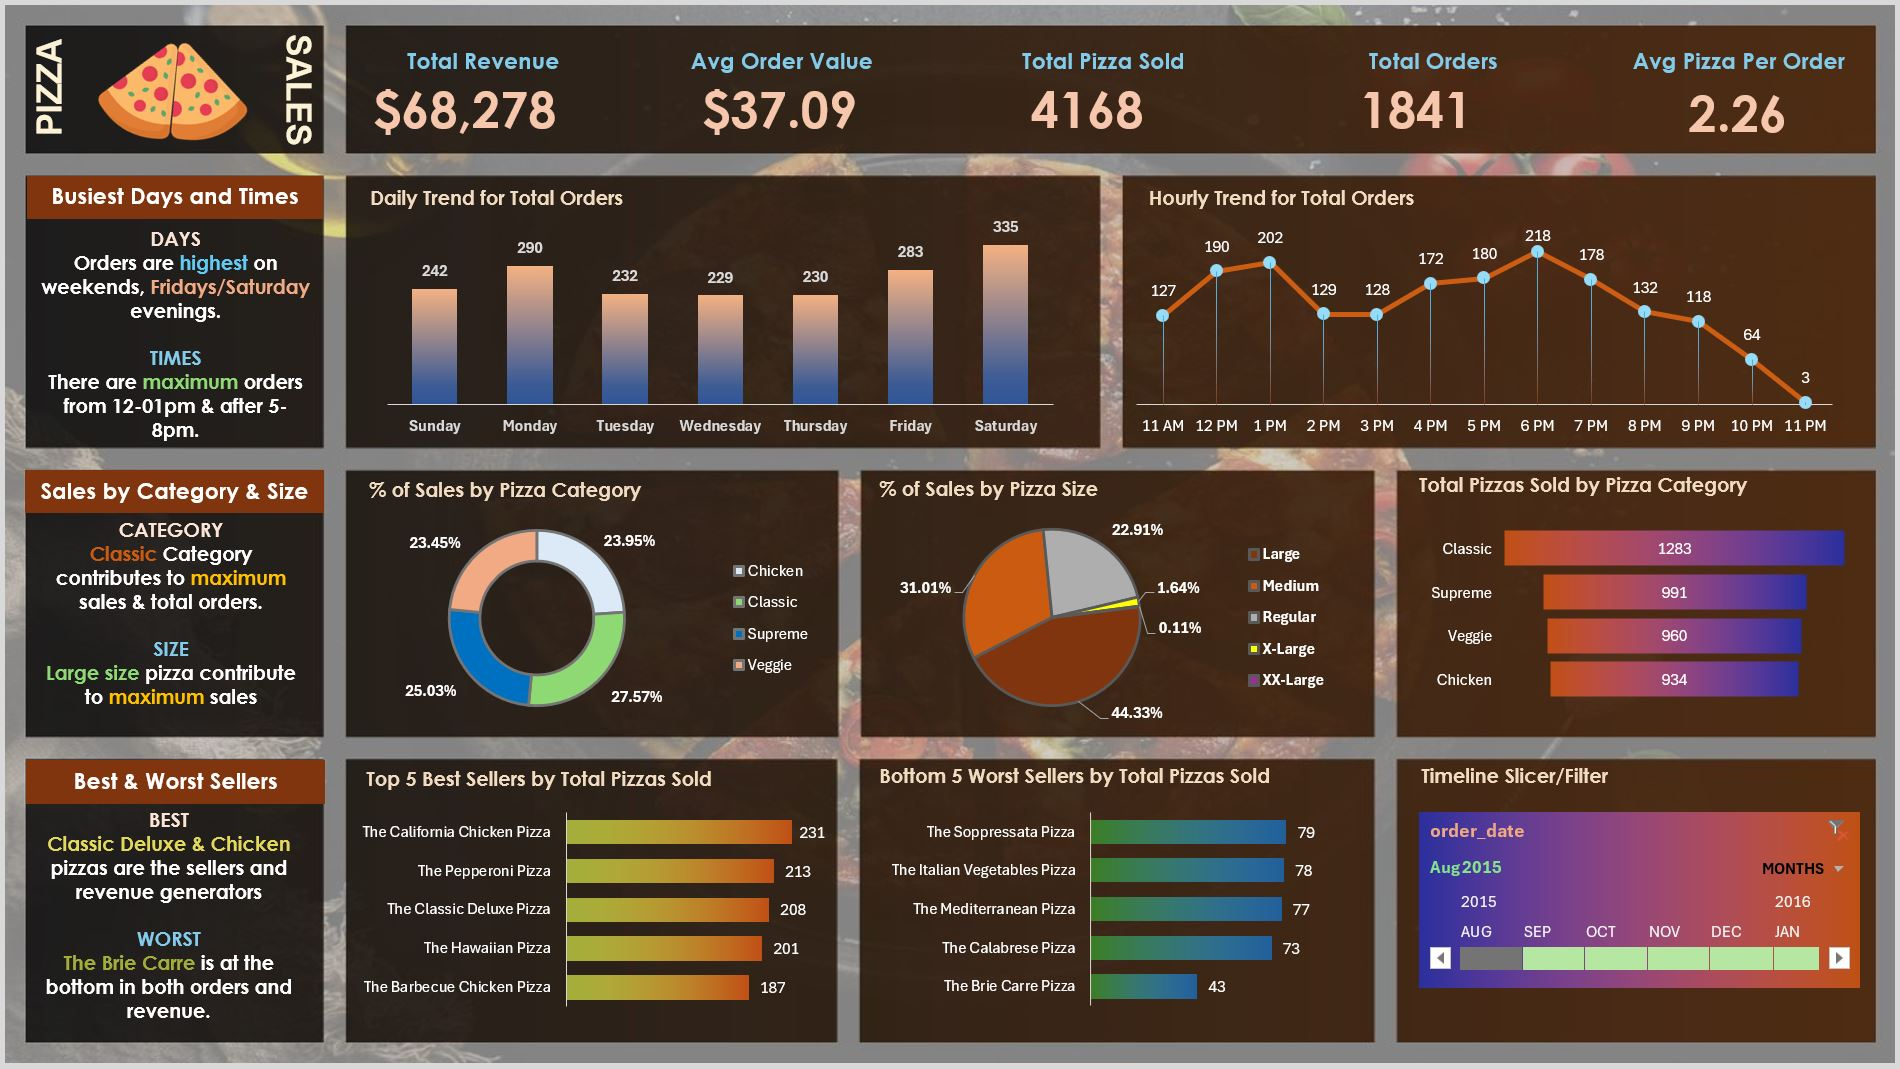

Layout of this report page (visuals, bound fields, positions):
{"tool":"powerbi","page":{"name":"Home","canvas":[1500,820],"ordinal":0},"visuals":[{"type":"cardVisual","fields":{"Data":["pizza_sales.Total Revenue","pizza_sales.Average Order Value","pizza_sales.Total Pizzas Sold","pizza_sales.Total Orders","pizza_sales.Avg Pizzas By Order"]},"box":[252.5,102.5,1230,140],"z":0},{"type":"shape","box":[17.5,31.7,1465,65],"z":1000},{"type":"textbox","box":[590.8,39.2,297.5,48.3],"z":2000},{"type":"textbox","box":[666.7,72.5,166.7,30],"z":3000},{"type":"image","box":[544.2,39.2,57.5,50],"z":4000},{"type":"shape","box":[252.5,242.5,565,310],"z":5000},{"type":"columnChart","title":"Daily Trend for Total Orders","fields":{"Category":["pizza_sales.Order Day"],"Y":["pizza_sales.Total Orders"]},"box":[270.8,258.3,527.5,271.7],"z":6000},{"type":"shape","box":[817.5,242.5,665,310],"z":7000},{"type":"areaChart","title":"Monthly Trend for Total Orders","fields":{"Y":["pizza_sales.Total Orders"],"Category":["pizza_sales.Order Month"]},"box":[850,258.3,605.8,271.7],"z":8000},{"type":"shape","box":[252.5,546.7,414.2,273.3],"z":9000},{"type":"shape","box":[666.7,546.7,409.2,273.3],"z":10000},{"type":"shape","box":[17.5,103.3,235,716.7],"z":11000},{"type":"shape","box":[1075.8,546.7,406.7,273.3],"z":12000},{"type":"donutChart","title":"% of Sales by Pizza Category","fields":{"Category":["pizza_sales.pizza_category"],"Y":["pizza_sales.Total Revenue"]},"box":[270.8,567.5,378.3,235.8],"z":13000},{"type":"donutChart","title":"% of Sales by Pizza Size","fields":{"Y":["pizza_sales.Total Revenue"],"Category":["pizza_sales.pizza_size"]},"box":[682.5,567.5,378.3,235.8],"z":14000},{"type":"funnel","title":"Total Pizzas Sold by Pizza Category","fields":{"Category":["pizza_sales.pizza_category"],"Y":["pizza_sales.Total Pizzas Sold"]},"box":[1092.5,565,373.3,235.8],"z":15000},{"type":"textbox","box":[26.7,249.2,216.7,30],"z":16000},{"type":"textbox","box":[26.7,279.2,216.7,267.5],"z":17000},{"type":"textbox","box":[26.7,546.7,216.7,30],"z":18000},{"type":"textbox","box":[26.7,576.7,216.7,237.5],"z":19000},{"type":"slicer","fields":{"Values":["pizza_sales.pizza_category"]},"box":[992.5,31.7,208.3,61.7],"z":20000},{"type":"slicer","fields":{"Values":["pizza_sales.order_date"]},"box":[1200.8,31.7,213.3,65],"z":21000},{"type":"pageNavigator","box":[44.2,122.5,180.8,50],"z":22000},{"type":"pageNavigator","box":[44.2,182.5,180.8,50],"z":23000},{"type":"image","box":[190,127.5,35,39.2],"z":24000},{"type":"image","box":[44.2,131.7,35,31.7],"z":24001},{"type":"image","box":[44.2,190,35,35],"z":24002}]}

Visuals, with their boxes in screenshot pixels (x1, y1, x2, y2), scaled from the page's 1500x820 canvas onto the 1900x1069 screenshot:
cardVisual - pizza_sales.Total Revenue x pizza_sales.Average Order Value: pyautogui.locateOnScreen(320, 134, 1878, 316)
shape: pyautogui.locateOnScreen(22, 41, 1878, 126)
textbox: pyautogui.locateOnScreen(748, 51, 1125, 114)
textbox: pyautogui.locateOnScreen(844, 95, 1056, 134)
image: pyautogui.locateOnScreen(689, 51, 762, 116)
shape: pyautogui.locateOnScreen(320, 316, 1036, 720)
"Daily Trend for Total Orders" columnChart: pyautogui.locateOnScreen(343, 337, 1011, 691)
shape: pyautogui.locateOnScreen(1036, 316, 1878, 720)
"Monthly Trend for Total Orders" areaChart: pyautogui.locateOnScreen(1077, 337, 1844, 691)
shape: pyautogui.locateOnScreen(320, 713, 844, 1068)
shape: pyautogui.locateOnScreen(844, 713, 1363, 1068)
shape: pyautogui.locateOnScreen(22, 135, 320, 1068)
shape: pyautogui.locateOnScreen(1363, 713, 1878, 1068)
"% of Sales by Pizza Category" donutChart: pyautogui.locateOnScreen(343, 740, 822, 1047)
"% of Sales by Pizza Size" donutChart: pyautogui.locateOnScreen(864, 740, 1344, 1047)
"Total Pizzas Sold by Pizza Category" funnel: pyautogui.locateOnScreen(1384, 737, 1857, 1044)
textbox: pyautogui.locateOnScreen(34, 325, 308, 364)
textbox: pyautogui.locateOnScreen(34, 364, 308, 713)
textbox: pyautogui.locateOnScreen(34, 713, 308, 752)
textbox: pyautogui.locateOnScreen(34, 752, 308, 1061)
slicer - pizza_sales.pizza_category: pyautogui.locateOnScreen(1257, 41, 1521, 122)
slicer - pizza_sales.order_date: pyautogui.locateOnScreen(1521, 41, 1791, 126)
pageNavigator: pyautogui.locateOnScreen(56, 160, 285, 225)
pageNavigator: pyautogui.locateOnScreen(56, 238, 285, 303)
image: pyautogui.locateOnScreen(241, 166, 285, 217)
image: pyautogui.locateOnScreen(56, 172, 100, 213)
image: pyautogui.locateOnScreen(56, 248, 100, 293)
